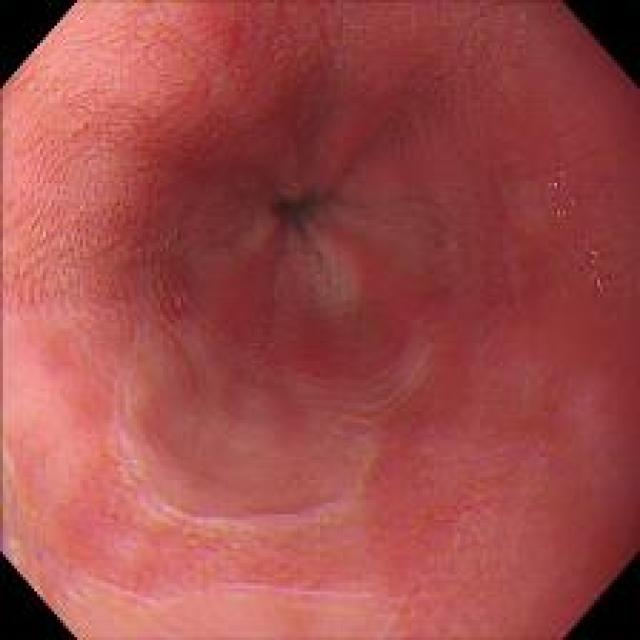blur: (5, 361, 635, 632), (149, 114, 464, 632)
color misalignment: (579, 231, 610, 296), (548, 168, 575, 222)
